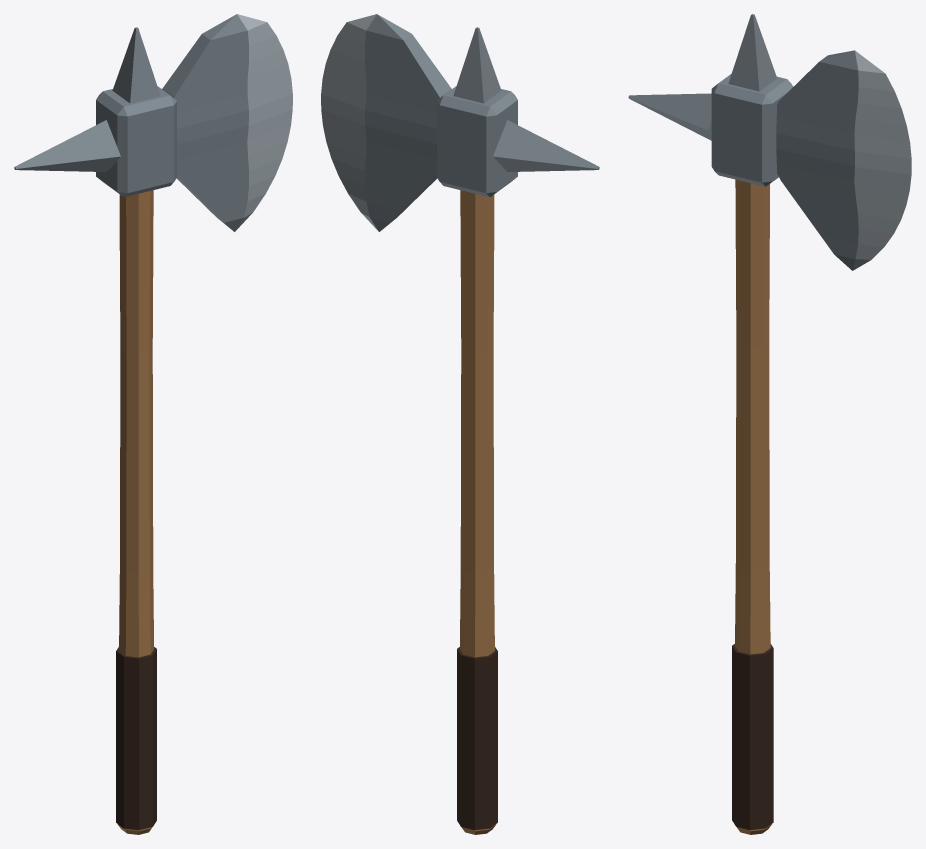
File: mdvl_props_axe_01.glb
The picture shows the model from 3 angles, left to right: view 1: azimuth 30°, elevation 25°; view 2: azimuth 150°, elevation 25°; view 3: azimuth 330°, elevation 25°; orthographic projection.
Visible parts, largest first — view 1: mdvl_props_axe_01; view 2: mdvl_props_axe_01; view 3: mdvl_props_axe_01.
Boxes of the visible parts, <box> form: mdvl_props_axe_01: <box>14,14,292,834</box>; mdvl_props_axe_01: <box>321,14,599,834</box>; mdvl_props_axe_01: <box>628,14,911,834</box>.
Size of the model in its own units: 0.3338 by 0.919 by 0.06.
Materials: 1 (1 with a texture image).
